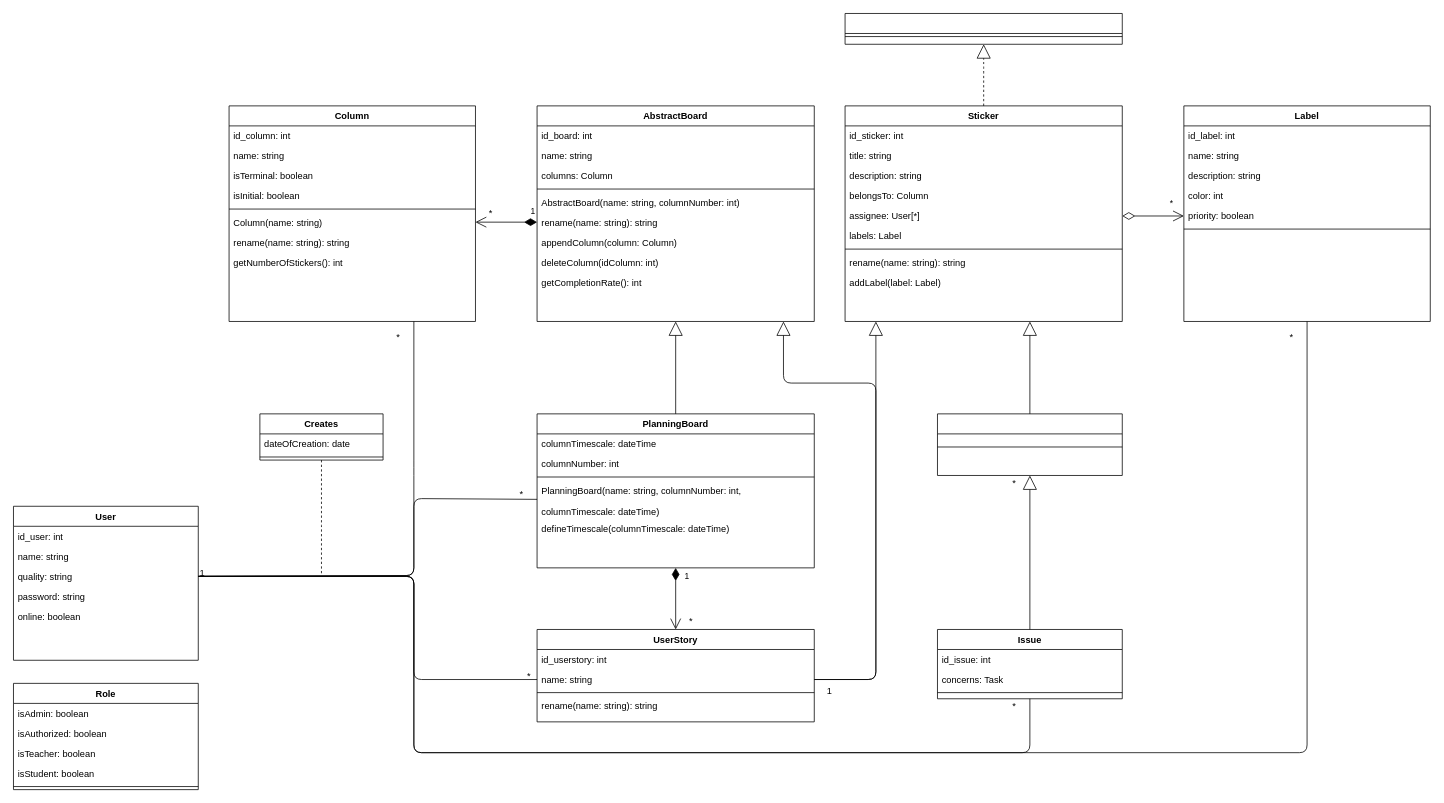
The diagram is 1444 pixels wide and 803 high, and some of its shapes have lost their labels. The centre of each missing label's shape, as x and y in pixels:
Movable: [983,28]
Task: [1029,444]
